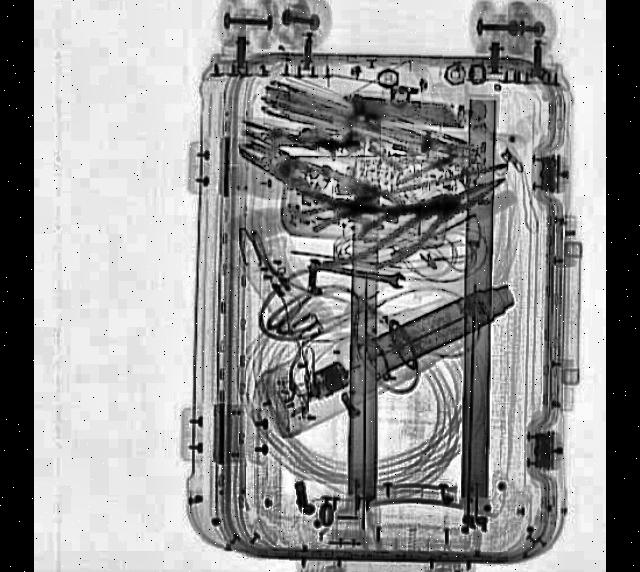Pliers: (231, 129, 409, 243), (355, 153, 513, 279), (309, 176, 466, 272)
